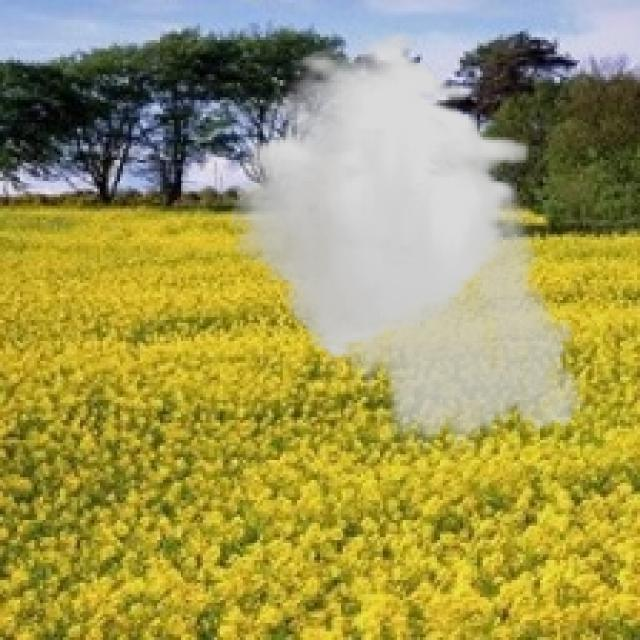Smoke: (232, 32, 597, 457)
